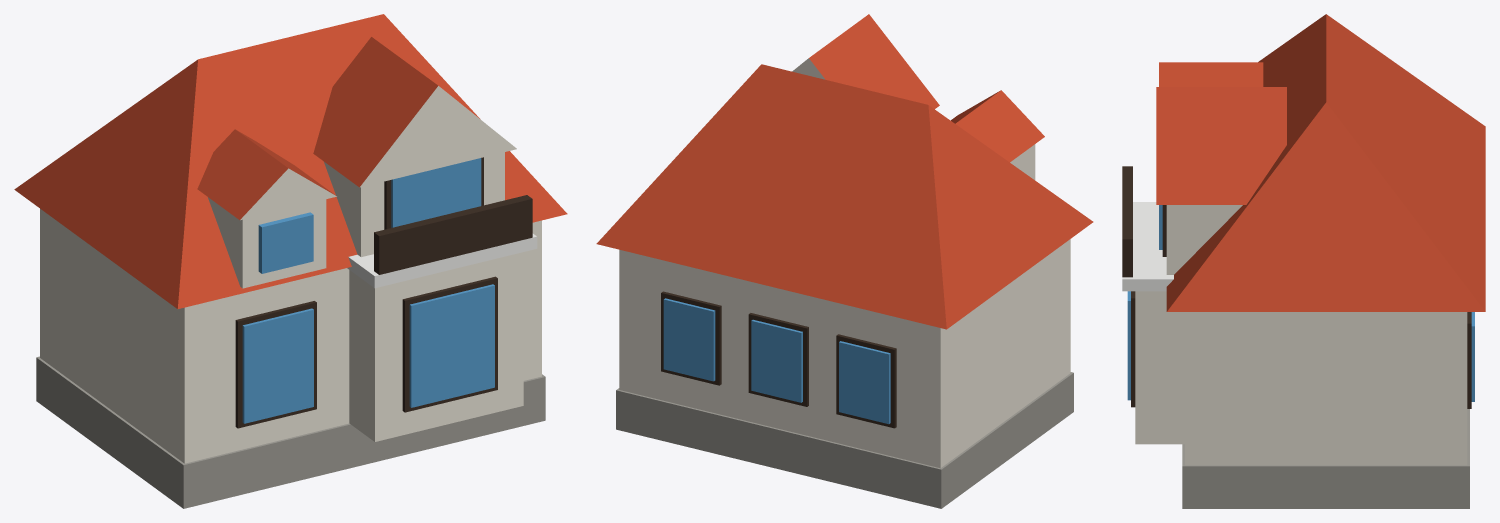
File: 62_polish_bay_villa_2.obj
3 views of the same model, side by side, from view 1: azimuth 30°, elevation 25°; view 2: azimuth 150°, elevation 25°; view 3: azimuth 270°, elevation 25° (orthographic). The views are drawn at different scales.
Parts seen in each view (by area): view 1: 62_polish_bay_villa_2; view 2: 62_polish_bay_villa_2; view 3: 62_polish_bay_villa_2.
Boxes of the visible parts, x1,y1,x2,y2 form: 62_polish_bay_villa_2: (14, 14, 567, 508); 62_polish_bay_villa_2: (596, 14, 1093, 508); 62_polish_bay_villa_2: (1122, 14, 1485, 508).
Size of the model in its own units: 1.68 by 1.54 by 1.39.
